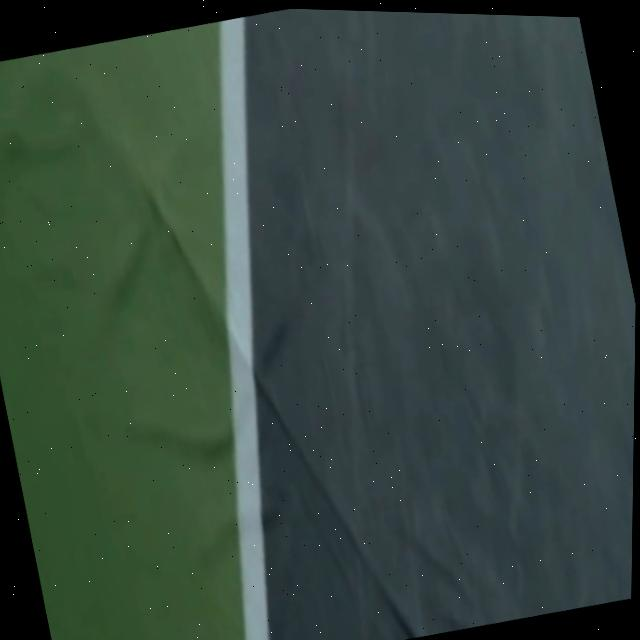right: (220, 16, 270, 640)
